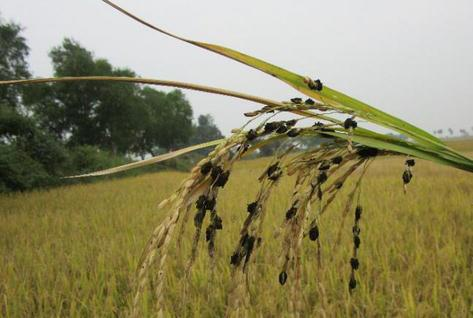False Smut: (199, 159, 232, 186), (260, 120, 304, 135), (305, 76, 326, 93), (290, 96, 319, 108), (342, 117, 359, 132), (246, 129, 261, 142)
